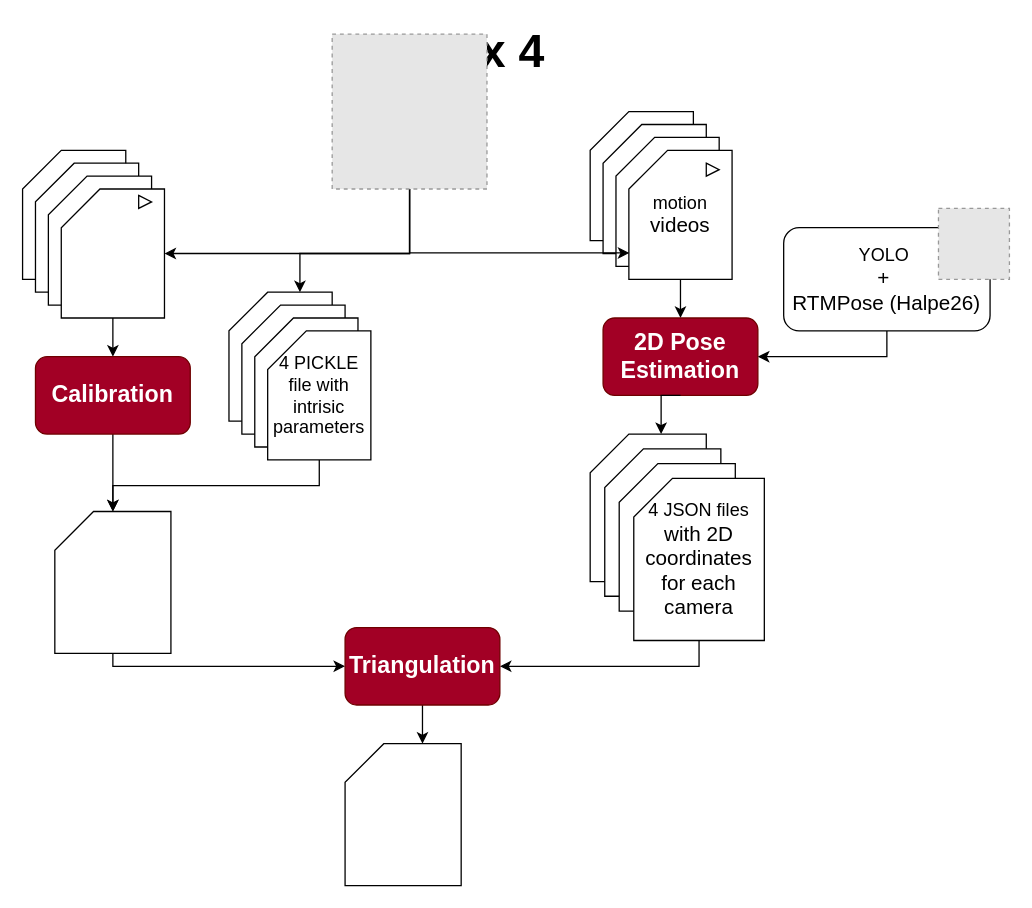
The diagram is 1032 pixels wide and 908 high, and some of its shapes have lost their labels. Grey dashed boxes stand in for pictures. The centre of each missing label's shape, as x and y in pixels:
a CSV file with 3D coordinates: pixel 402 814
a HDF5 file with calibration parameters: pixel 112 581
chessboard videos: pixel 112 253
